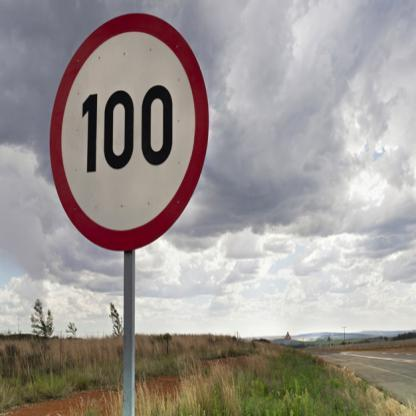Speed Limit 100: (49, 13, 208, 250)
